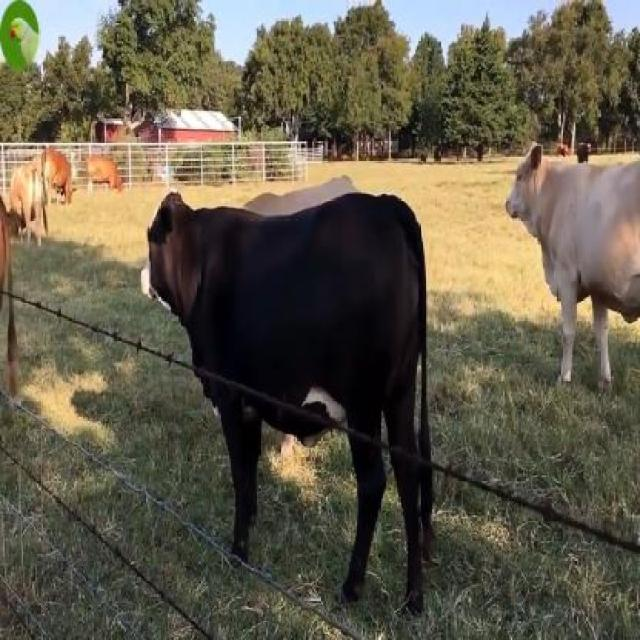Cow: (142, 192, 440, 616), (497, 143, 638, 399)
